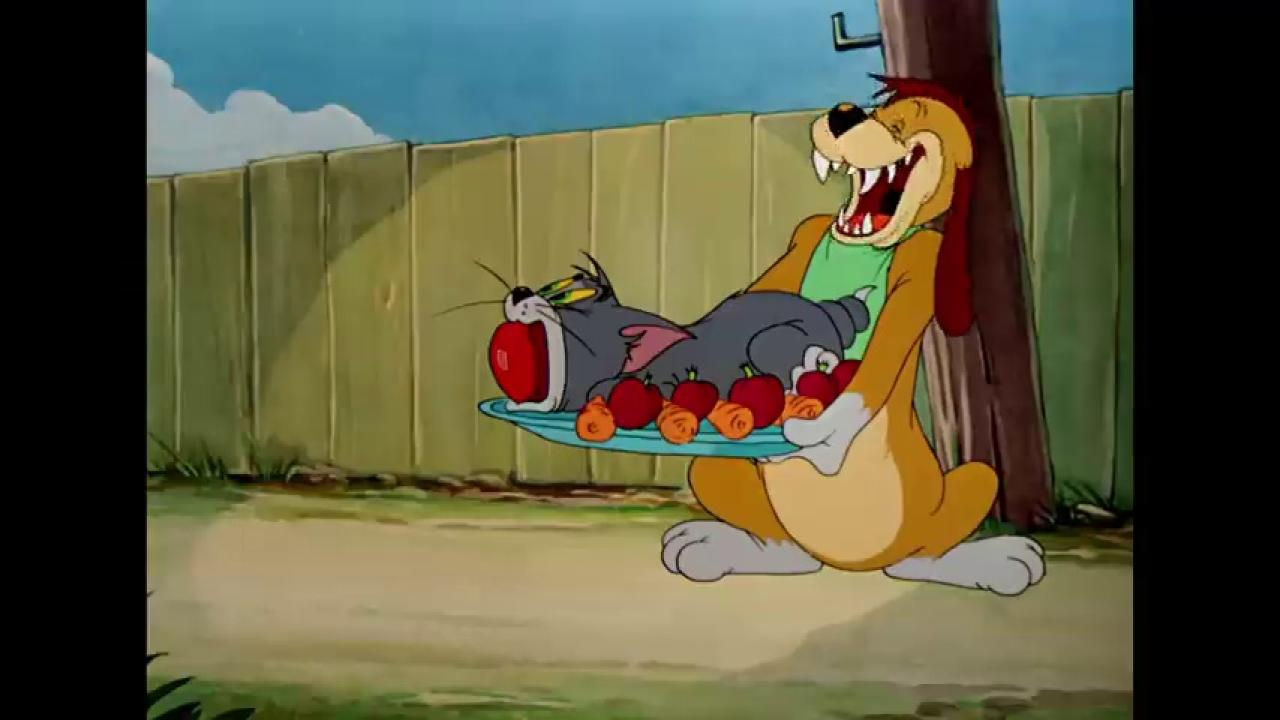Tom: (499, 250, 881, 417)
